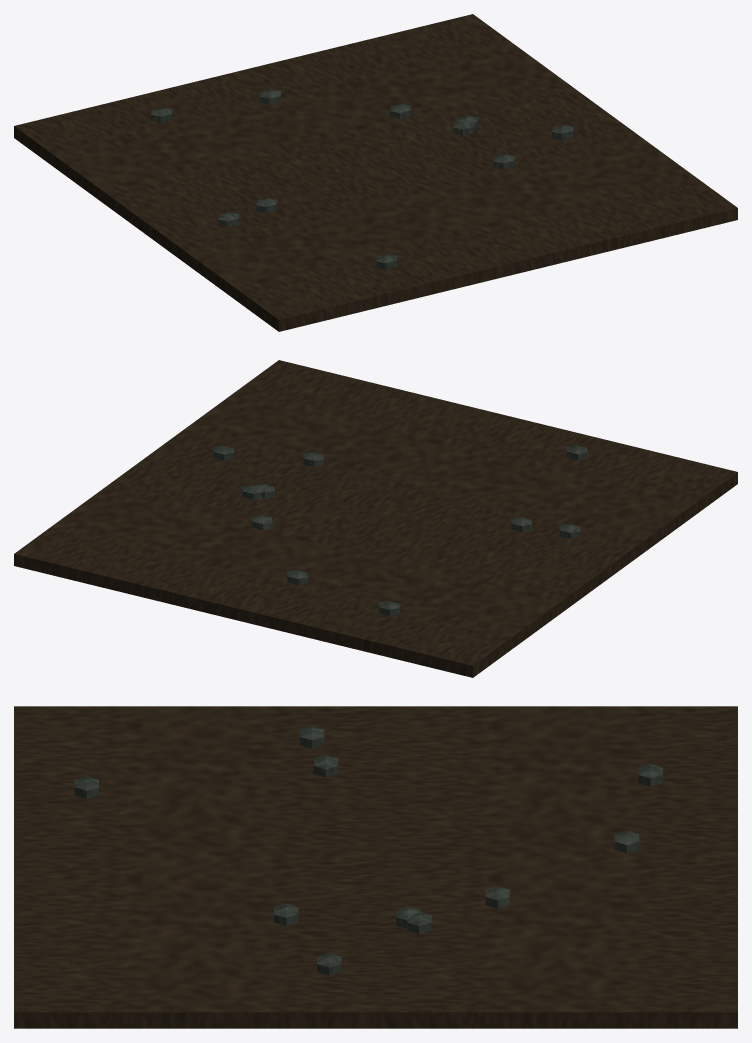
The model's file is Path_2x2.glb.
The picture shows the model from 3 angles, top to bottom: view 1: azimuth 30°, elevation 25°; view 2: azimuth 150°, elevation 25°; view 3: azimuth 270°, elevation 25°; orthographic projection. The views are drawn at different scales.
Visible parts, largest first — view 1: Path_2x2; view 2: Path_2x2; view 3: Path_2x2.
Part boxes in pixels (box(x1,y1,x2,y2)): Path_2x2: box(14, 14, 737, 331); Path_2x2: box(14, 360, 737, 677); Path_2x2: box(14, 706, 737, 1028).
Size of the model in its own units: 2 by 0.1 by 2.
Materials: 2 (2 with a texture image).
